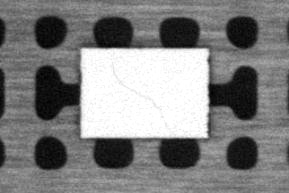DIE_CRACK: (112, 62, 168, 129)
